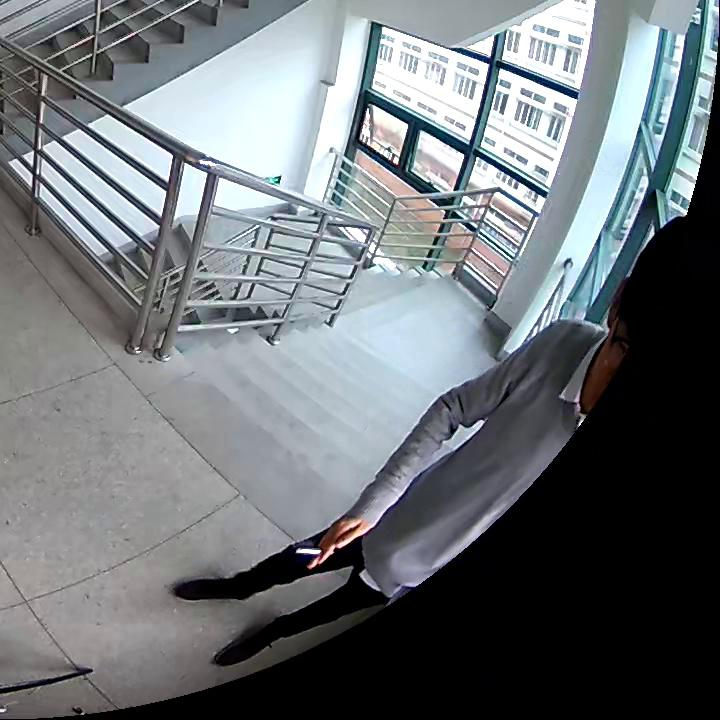handsmoke: (294, 516, 377, 569)
